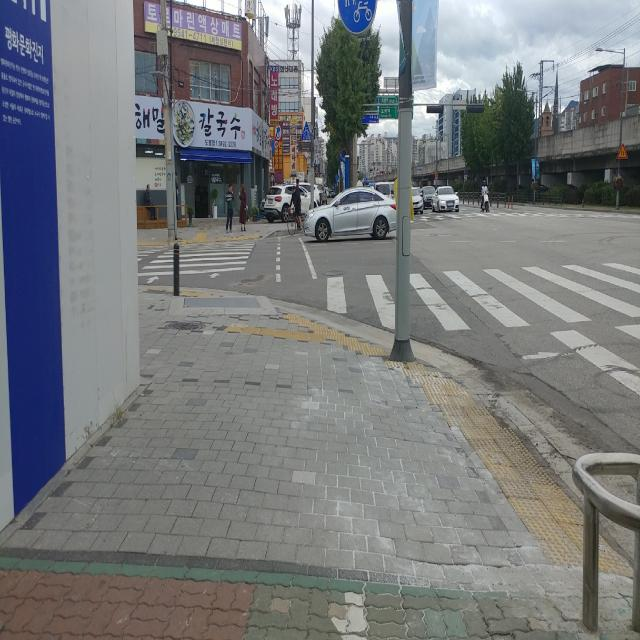횡단보도: (326, 273, 640, 399), (137, 240, 257, 284)
